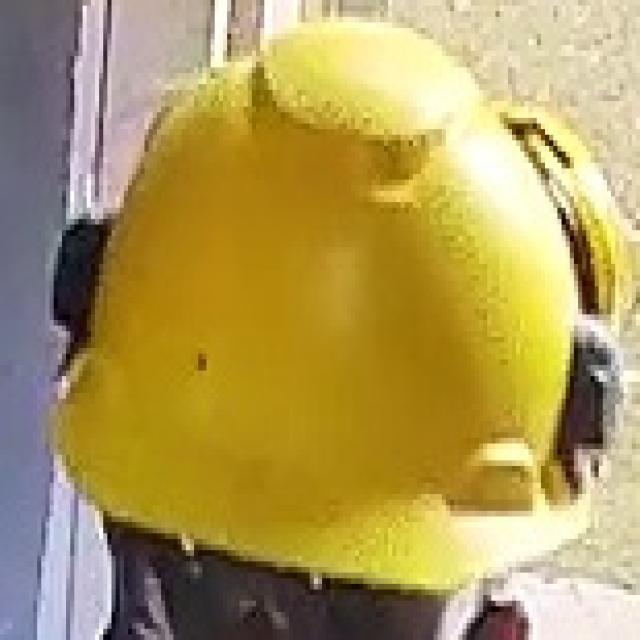yellow helmet: (46, 24, 637, 596)
